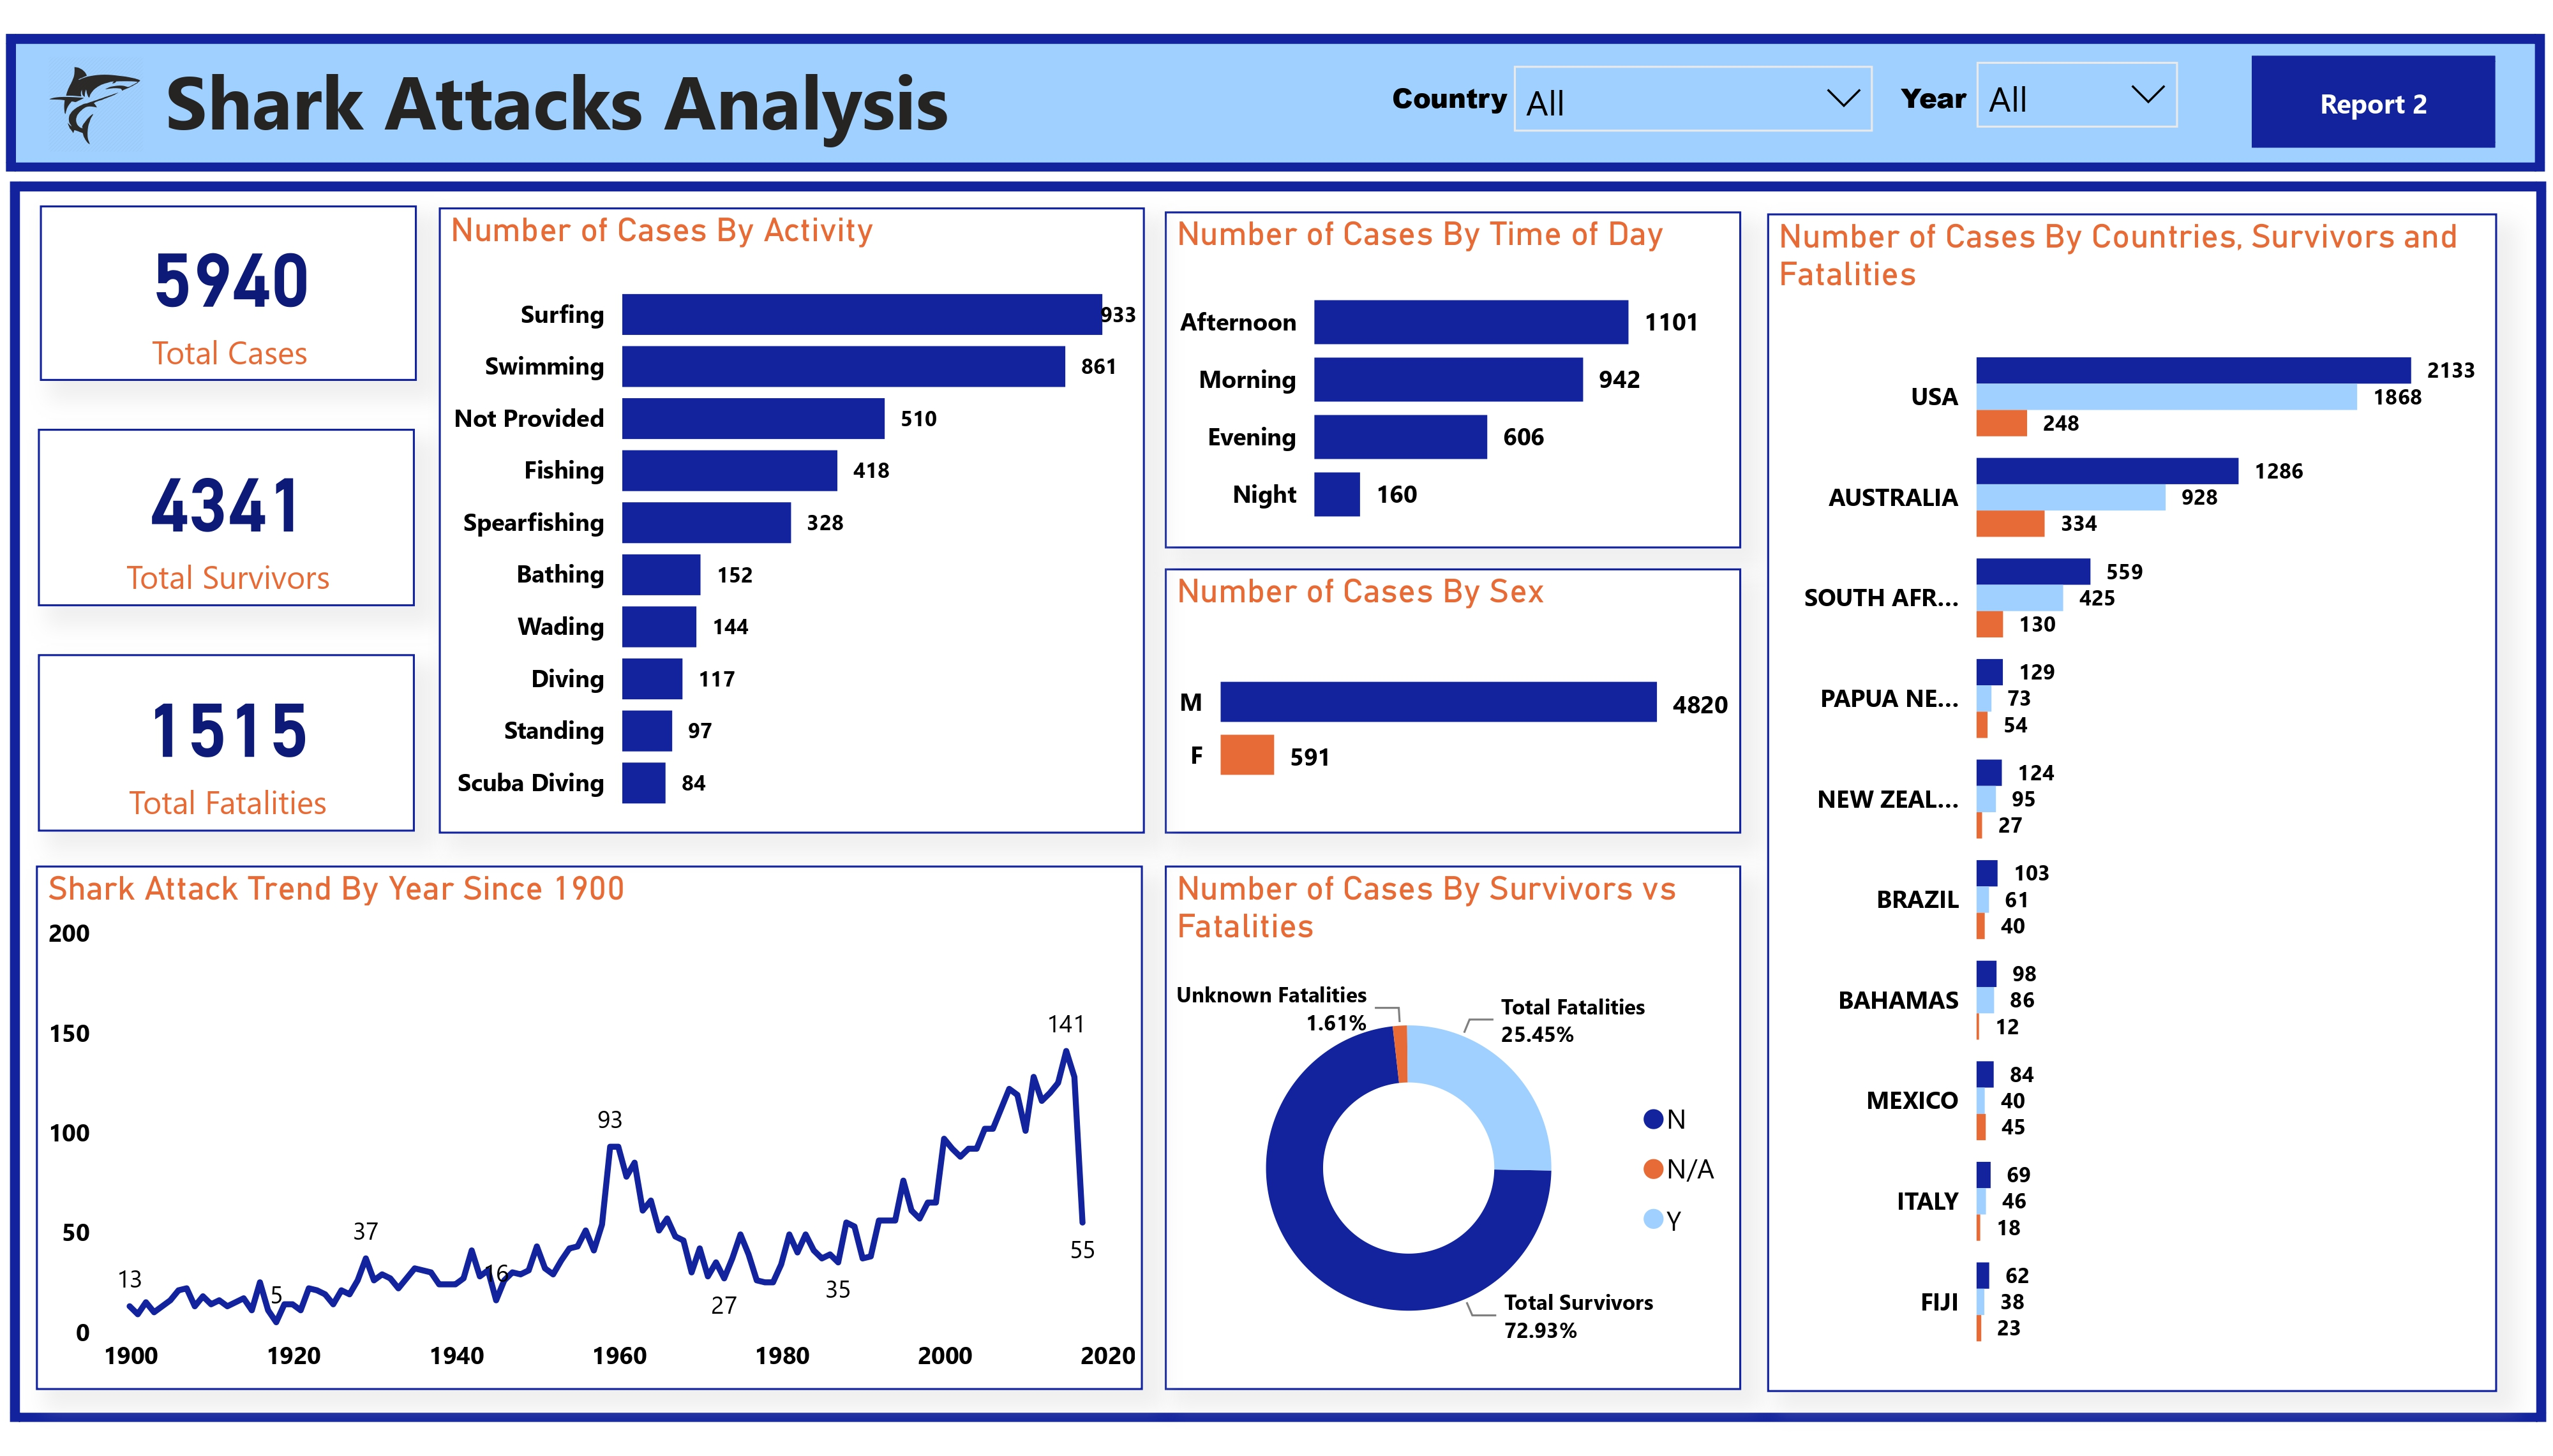

Layout of this report page (visuals, bound fields, positions):
{"tool":"powerbi","page":{"name":"REPORT 1","canvas":[1280,720],"ordinal":0},"visuals":[{"type":"textbox","box":[10,290,280,280],"z":0},{"type":"shape","box":[5,85.6,1271.6,622.4],"z":1000},{"type":"shape","box":[3,11.8,1272.9,69.5],"z":2000},{"type":"card","fields":{"Values":["DAX.Total Survivors"]},"box":[18.7,210.2,188.6,89.3],"z":3000},{"type":"card","fields":{"Values":["DAX.Total Cases"]},"box":[20.2,97.9,188.6,87.8],"z":4000},{"type":"card","fields":{"Values":["DAX.Total Fatalities"]},"box":[18.7,322.6,188.6,89.3],"z":5000},{"type":"barChart","title":"Number of Cases By Time of Day","fields":{"Category":["Attacks_New1.Time_Period"],"Y":["DAX.Total Cases"]},"box":[584.6,100.8,287.2,176.4],"z":6000},{"type":"donutChart","title":"Number of Cases By Survivors vs Fatalities","fields":{"Category":["Attacks_New1.Fatal (Y/N)"],"Y":["DAX.Total Survivors","DAX.Total Fatalities","DAX.Unknown Fatalities"]},"box":[583.8,429.5,288.5,263.4],"z":7000},{"type":"lineChart","title":"Shark Attacks Trend By Year Since 1900","fields":{"Category":["Attacks_New1.Year"],"Y":["DAX.Total Cases"]},"box":[18.5,430,554.3,262],"z":8000},{"type":"barChart","title":"Number of Cases By Sex","fields":{"Category":["Attacks_New1.Sex "],"Y":["DAX.Male Casualties","DAX.Female Casualties"]},"box":[584.6,290.6,287.2,122.6],"z":9000},{"type":"barChart","title":"Top 10 Cases By Activity","fields":{"Category":["Attacks_New1.Activity"],"Y":["DAX.Total Cases"]},"box":[219.8,99,354,313.7],"z":10000},{"type":"clusteredBarChart","title":"Top 10 Countries With Most Number of Cases By Survivors and Fatalities","fields":{"Y":["DAX.Total Cases","DAX.Total Survivors","DAX.Total Fatalities"],"Category":["Attacks_New1.Country"]},"box":[885.8,102.3,365.7,590.5],"z":11000},{"type":"textbox","box":[81.2,15.1,562.9,60.6],"z":12000},{"type":"slicer","fields":{"Values":["Attacks_New1.Country"]},"box":[748.8,21.6,200.2,46.1],"z":13000},{"type":"slicer","fields":{"Values":["Attacks_New1.Year"]},"box":[980.6,20.2,121,57.6],"z":14000},{"type":"textbox","box":[947.5,28.8,66.2,33.1],"z":15000},{"type":"textbox","box":[692.6,28.8,89.3,33.1],"z":16000},{"type":"image","box":[8.9,17.7,76.9,57.7],"z":17000},{"type":"actionButton","box":[1129,23,122.4,46.1],"z":18000}]}

Visuals, with their boxes in screenshot pixels (x1, y1, x2, y2), scaled from the page's 1280x720 canvas onto the 2553x1456 screenshot:
textbox: 20, 586, 578, 1153
shape: 10, 173, 2546, 1432
shape: 6, 24, 2545, 165
card - DAX.Total Survivors: 37, 425, 414, 605
card - DAX.Total Cases: 40, 198, 416, 376
card - DAX.Total Fatalities: 37, 652, 414, 833
"Number of Cases By Time of Day" barChart: 1166, 204, 1739, 561
"Number of Cases By Survivors vs Fatalities" donutChart: 1164, 868, 1740, 1401
"Shark Attacks Trend By Year Since 1900" lineChart: 37, 870, 1142, 1399
"Number of Cases By Sex" barChart: 1166, 588, 1739, 836
"Top 10 Cases By Activity" barChart: 438, 200, 1144, 835
"Top 10 Countries With Most Number of Cases By Survivors and Fatalities" clusteredBarChart: 1767, 207, 2496, 1401
textbox: 162, 31, 1285, 153
slicer - Attacks_New1.Country: 1494, 43, 1893, 137
slicer - Attacks_New1.Year: 1956, 41, 2197, 158
textbox: 1890, 58, 2022, 125
textbox: 1381, 58, 1559, 125
image: 18, 36, 171, 152
actionButton: 2252, 47, 2496, 140
